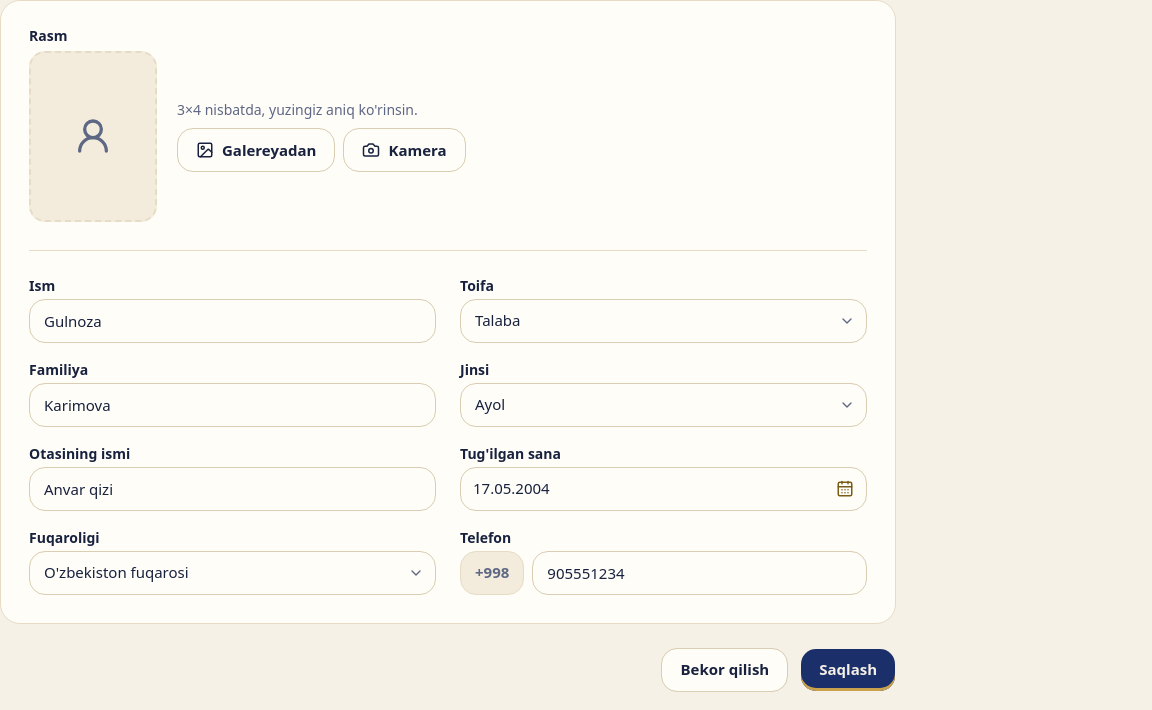
Test: ReaderForm › should show the backend message when the phone is already registered
What coordinates should you click on to do the following:
click the button "Saqlash"
I would click on:
 (848, 670)
Its box is x1=800 y1=648 x2=896 y2=692.
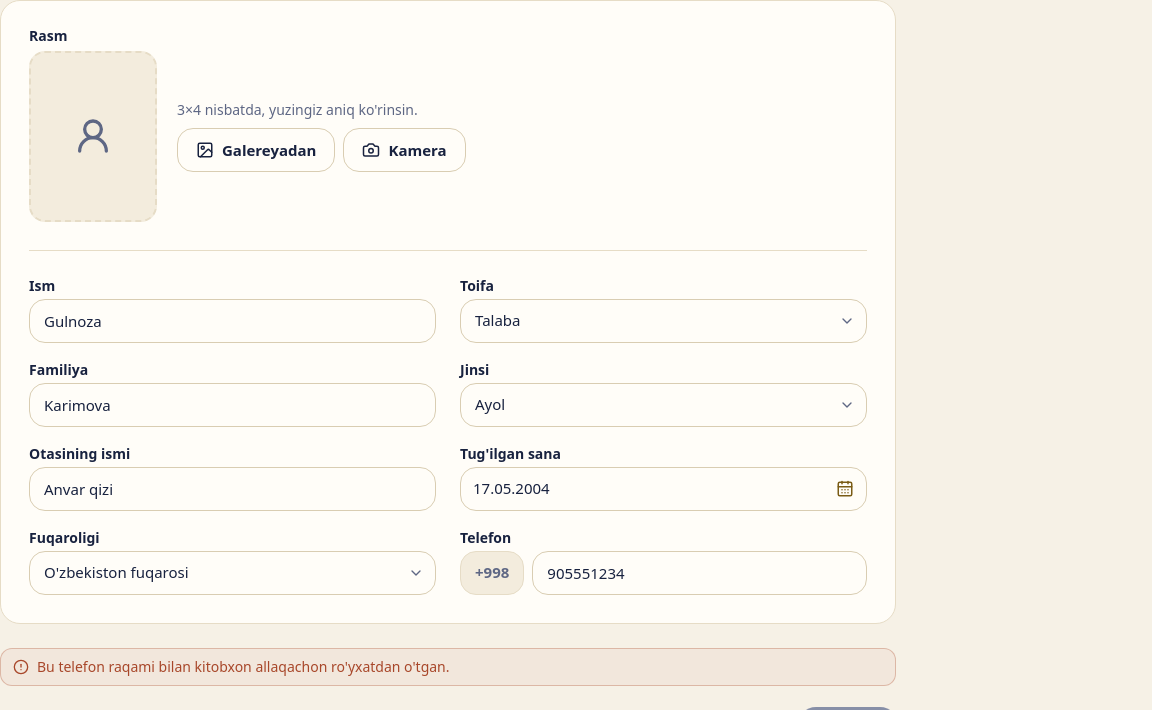
Check: the message reads "Bu telefon raqami bilan kitobxon allaqachon ro'yxatdan o'tgan.", box x1=37 y1=657 x2=450 y2=676
